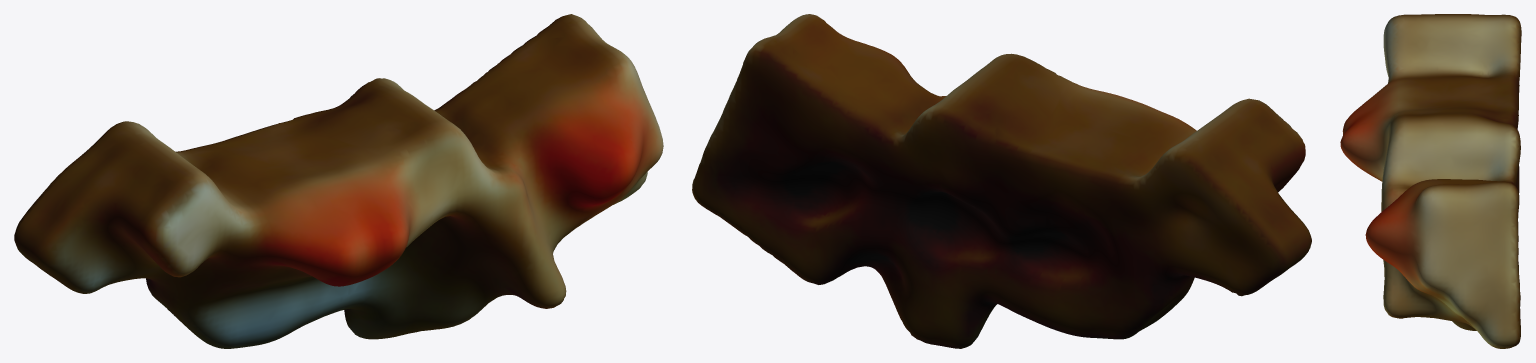
File: blocks.glb
The picture shows the model from 3 angles, left to right: view 1: azimuth 30°, elevation 25°; view 2: azimuth 150°, elevation 25°; view 3: azimuth 270°, elevation 25°; orthographic projection. The views are drawn at different scales.
Size of the model in its own units: 0.9989 by 0.4164 by 0.3241.
